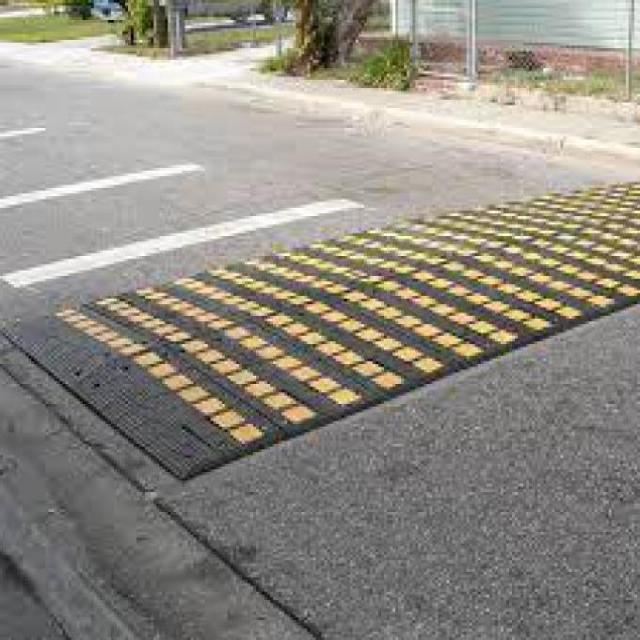speedbreaker: (0, 172, 640, 490)
